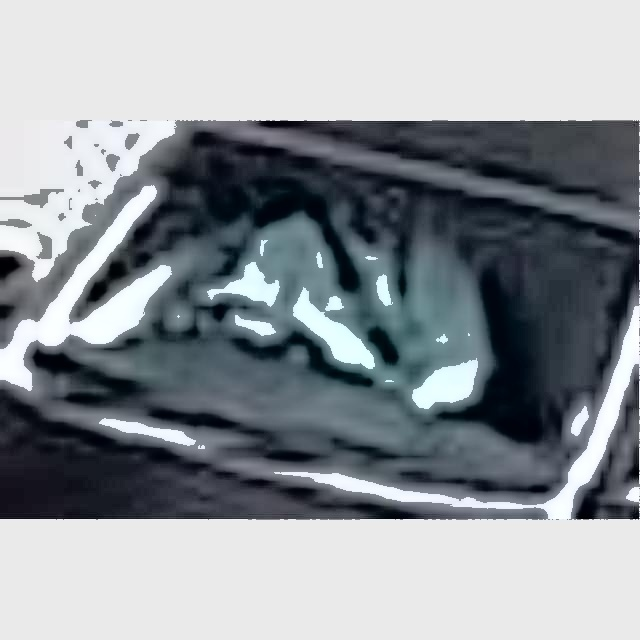pakai: (233, 179, 507, 437)
